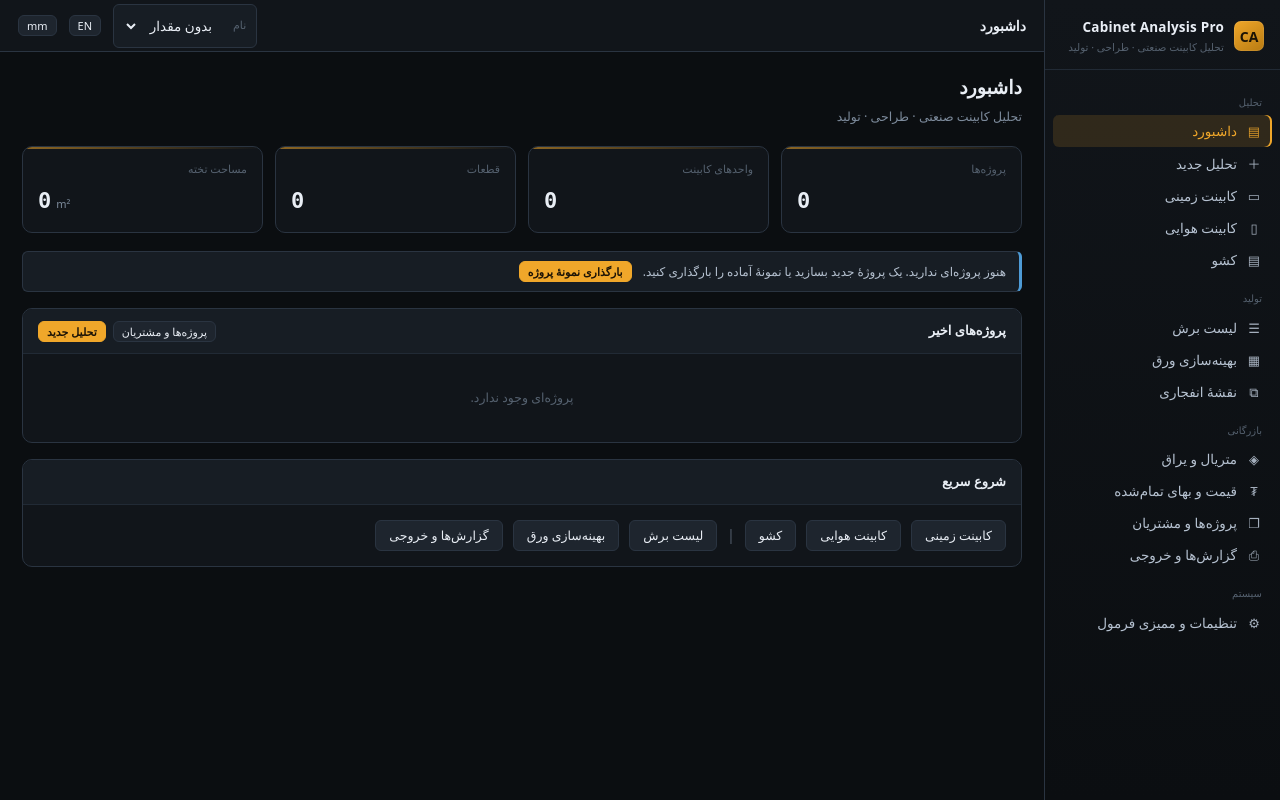
Scenario: application shell › switches to LTR English on the language toggle
Step 1. Click the button "EN" → click(85, 26), box [69,15,101,36]
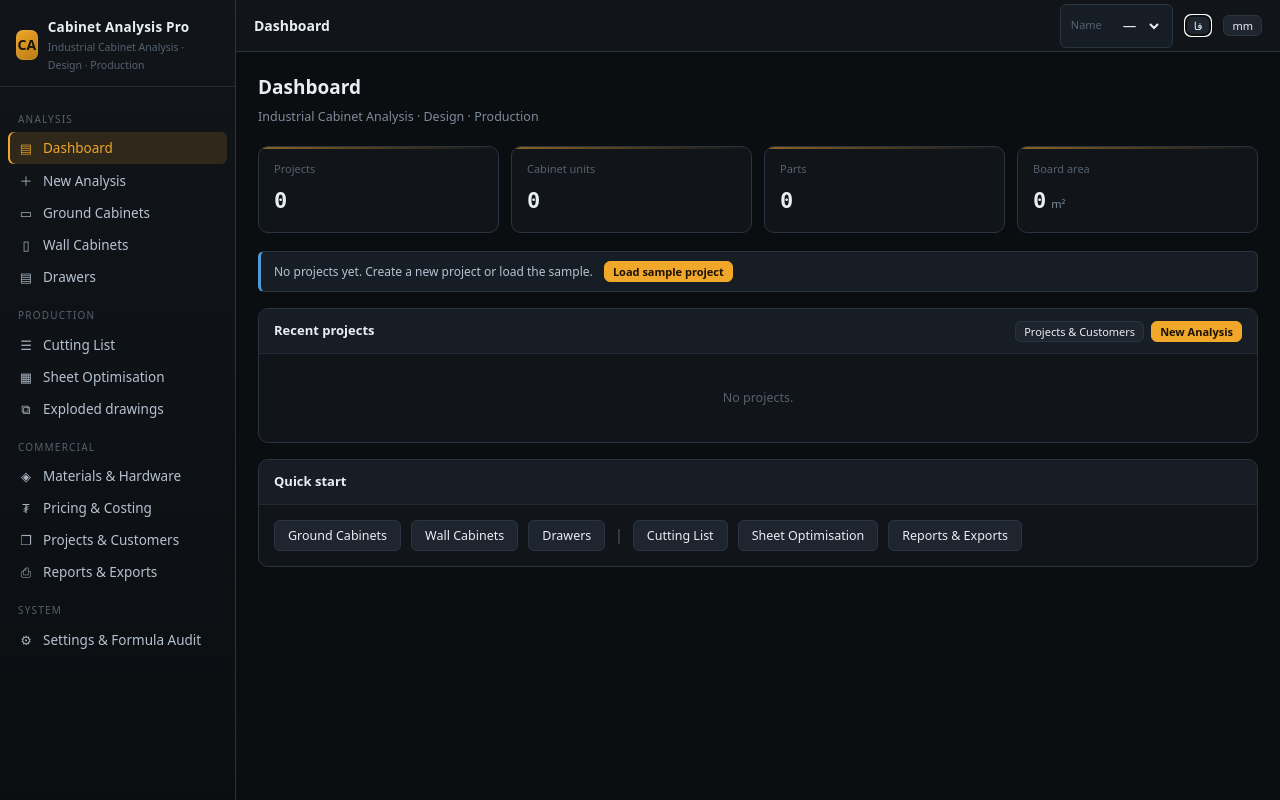
Now the text "Dashboard" below "Cabinet Analysis Pro" is shown, box [43,139,113,157]
